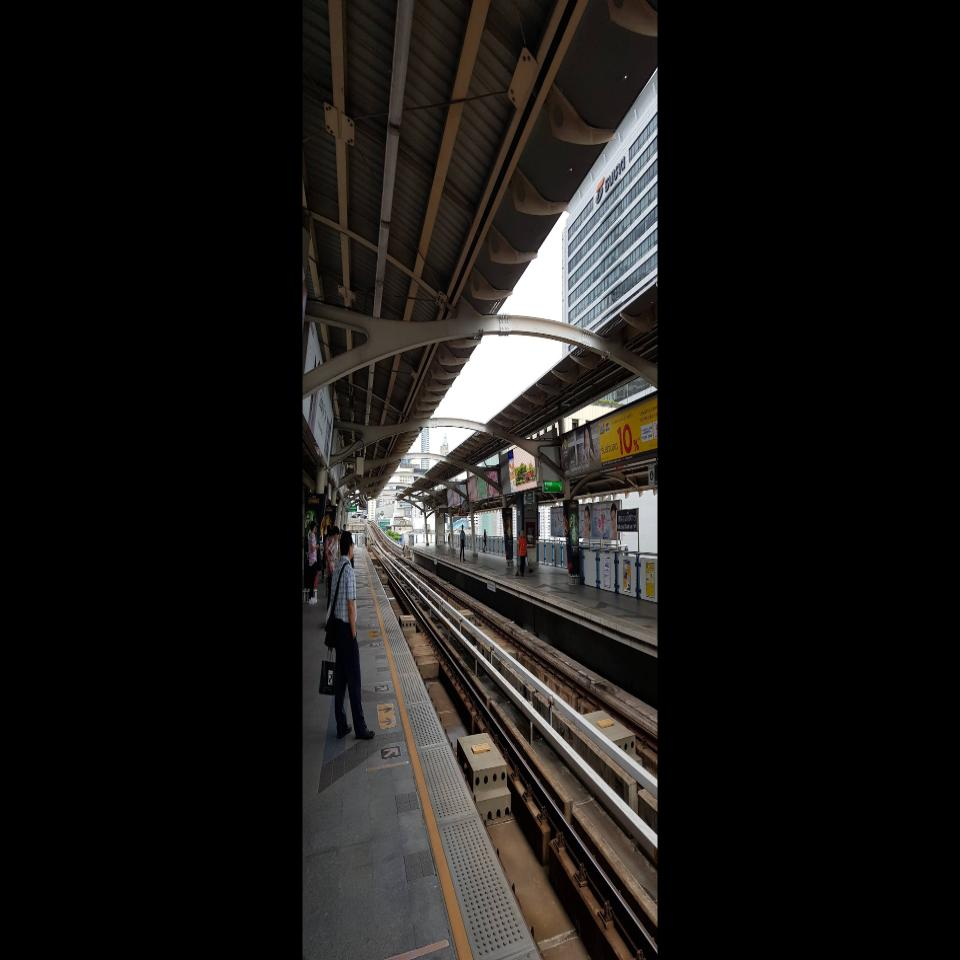National Stadium: (616, 507, 638, 532)
